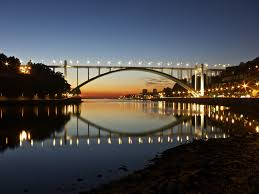arrabida: (19, 64, 226, 97)
